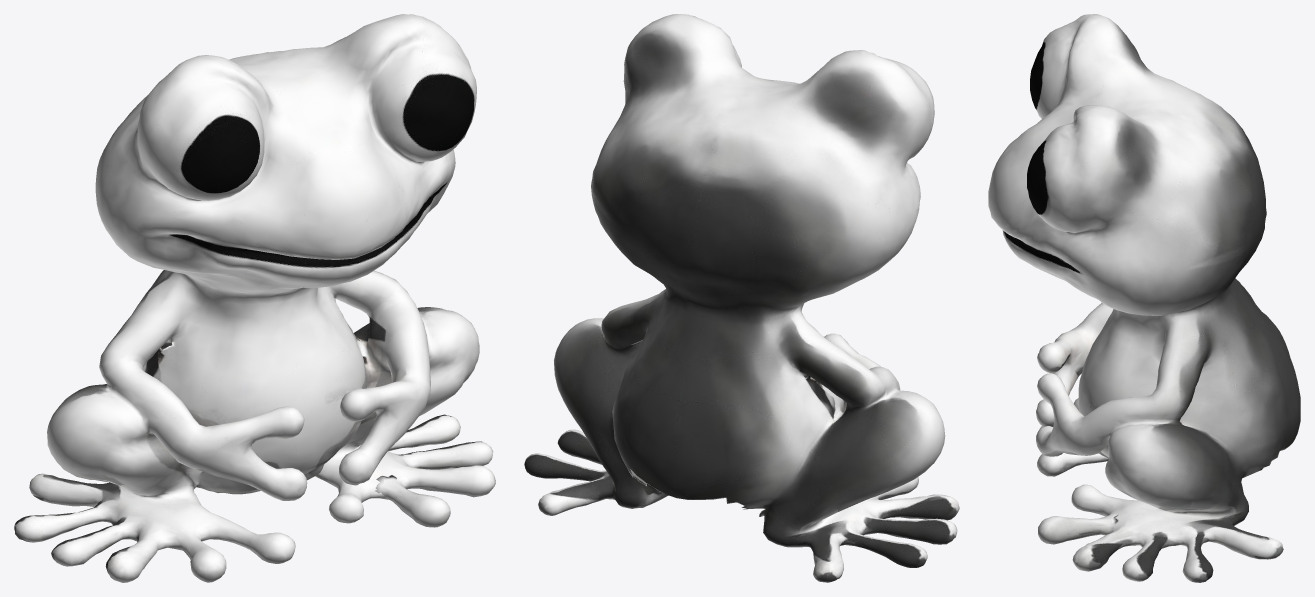
File: frog_silver_v1.glb
3 views of the same model, side by side, from view 1: azimuth 30°, elevation 25°; view 2: azimuth 150°, elevation 25°; view 3: azimuth 270°, elevation 25° (orthographic). The views are drawn at different scales.
Bounding box in the file's own units: 1.77 × 1.9 × 1.23.
Materials: 1 (1 with a texture image).
